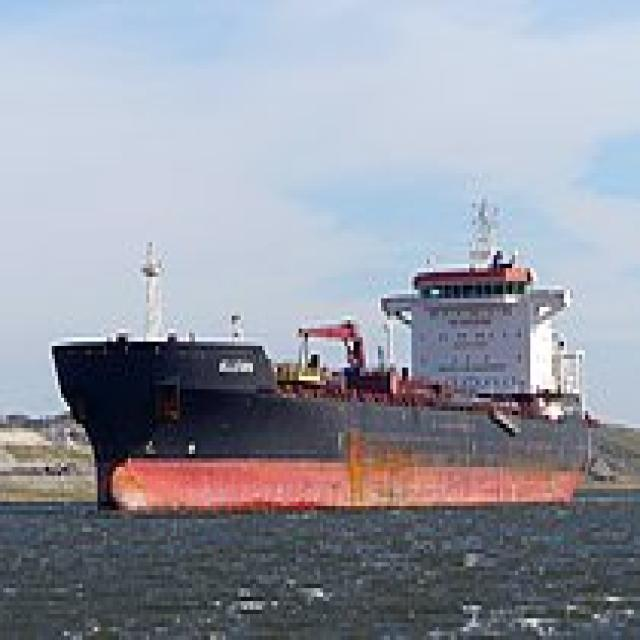Tanker: (46, 190, 588, 506)
